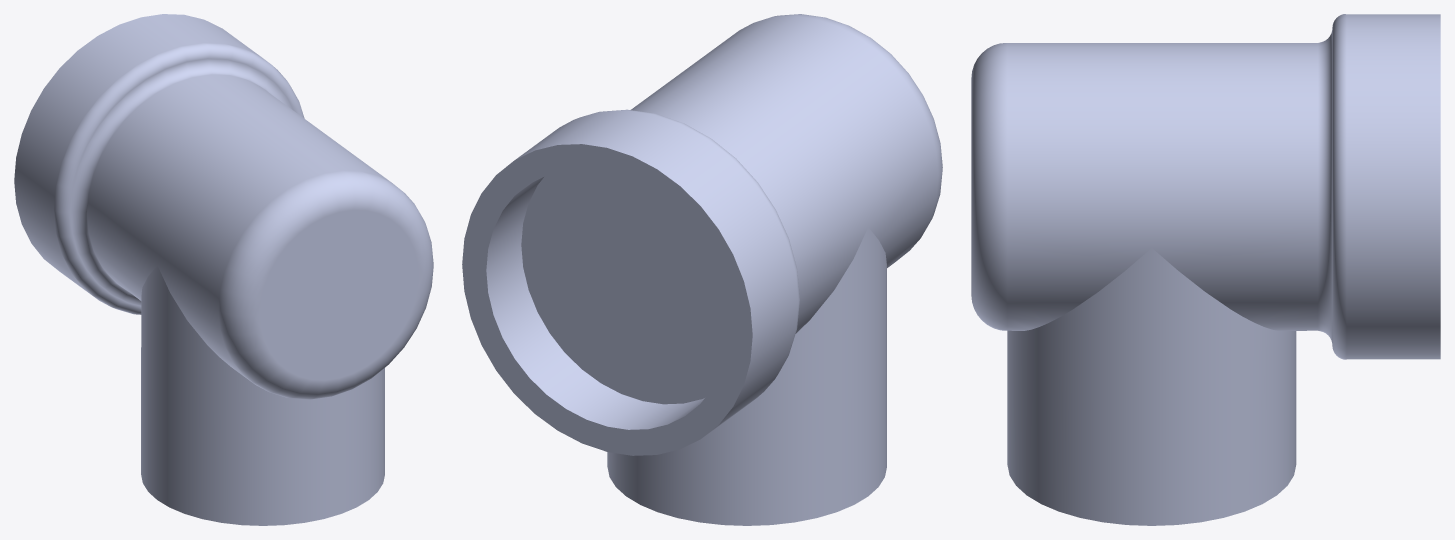
3 renders of one model, left to right at view 1: azimuth 30°, elevation 25°; view 2: azimuth 150°, elevation 25°; view 3: azimuth 270°, elevation 25°, orthographic. The views are drawn at different scales.
Parts seen in each view (by area): view 1: Link-3; view 2: Link-3; view 3: Link-3.
Boxes of the visible parts, x1,y1,x2,y2 form: Link-3: [14, 14, 433, 525]; Link-3: [462, 14, 942, 525]; Link-3: [971, 14, 1440, 525].
Bounding box in the file's own units: 0.096 × 0.133 × 0.13.
